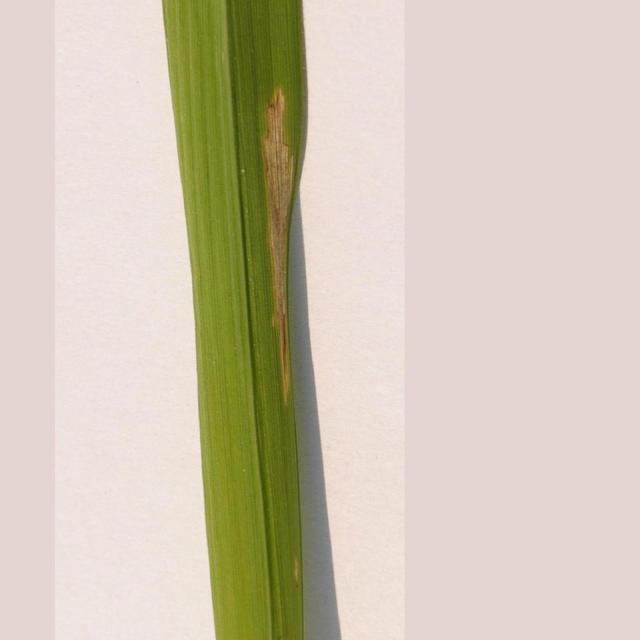Bacterial leaf blight: (248, 71, 301, 425), (287, 551, 301, 586)
